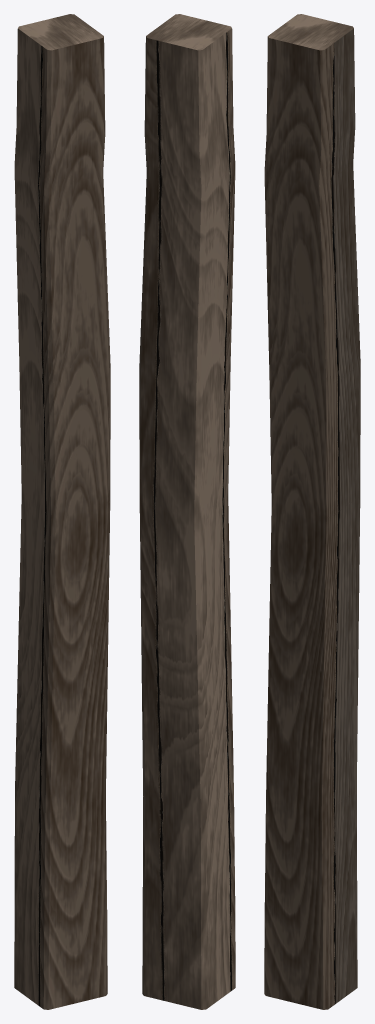
The model's file is SM_Piller.fbx.
The picture shows the model from 3 angles, left to right: view 1: azimuth 30°, elevation 25°; view 2: azimuth 150°, elevation 25°; view 3: azimuth 330°, elevation 25°; orthographic projection.
Parts seen in each view (by area): view 1: SM_Piller; view 2: SM_Piller; view 3: SM_Piller.
Part boxes in pixels (x1=…): SM_Piller: x1=14, y1=14, x2=110, y2=1009; SM_Piller: x1=139, y1=14, x2=235, y2=1009; SM_Piller: x1=264, y1=14, x2=360, y2=1009.
Size of the model in its own units: 23.59 by 323 by 20.
